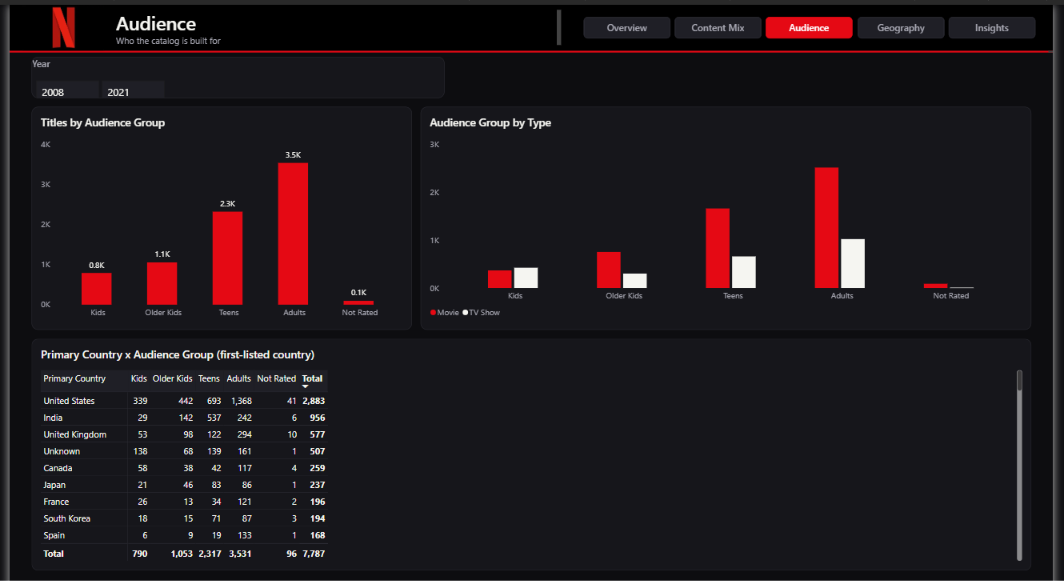

This screenshot's page, from the dashboard's own definition file:
{"tool":"powerbi","page":{"name":"Audience","canvas":[1920,1080],"ordinal":2},"visuals":[{"type":"textbox","box":[0,0,1920,84],"z":100},{"type":"textbox","box":[0,84,1920,3],"z":110},{"type":"image","box":[24,0,150,84],"z":120},{"type":"textbox","box":[196,10,820,66],"z":130},{"type":"actionButton","box":[1056,22,160,40],"z":140},{"type":"actionButton","box":[1224,22,160,40],"z":141},{"type":"actionButton","box":[1392,22,160,40],"z":142},{"type":"actionButton","box":[1560,22,160,40],"z":143},{"type":"actionButton","box":[1728,22,160,40],"z":144},{"type":"slicer","title":"Year","fields":{"Values":["dim_Date.Year"]},"box":[40,96,760,76],"z":1000},{"type":"columnChart","title":"Titles by Audience Group","fields":{"Category":["dim_Rating.Audience Group"],"Y":["_Measures.Total Titles"]},"box":[40,188,700,410],"z":1010},{"type":"clusteredColumnChart","title":"Audience Group by Type","fields":{"Category":["dim_Rating.Audience Group"],"Series":["netflix_titles.type"],"Y":["_Measures.Total Titles"]},"box":[756,188,1124,410],"z":1020},{"type":"pivotTable","title":"Primary Country x Audience Group (first-listed country)","fields":{"Columns":["dim_Rating.Audience Group"],"Rows":["netflix_titles.Primary Country"],"Values":["_Measures.Total Titles"]},"box":[40,614,1840,426],"z":1030}]}

Visuals, with their boxes on the page's 1920x1080 design canvas (x1, y1, x2, y2). These are canvas units, not pixel positions in the 1064x581 screenshot, which may show the page scaled, cropped or inside an application window:
textbox: [x1=0, y1=0, x2=1920, y2=84]
textbox: [x1=0, y1=84, x2=1920, y2=87]
image: [x1=24, y1=0, x2=174, y2=84]
textbox: [x1=196, y1=10, x2=1016, y2=76]
actionButton: [x1=1056, y1=22, x2=1216, y2=62]
actionButton: [x1=1224, y1=22, x2=1384, y2=62]
actionButton: [x1=1392, y1=22, x2=1552, y2=62]
actionButton: [x1=1560, y1=22, x2=1720, y2=62]
actionButton: [x1=1728, y1=22, x2=1888, y2=62]
"Year" slicer: [x1=40, y1=96, x2=800, y2=172]
"Titles by Audience Group" columnChart: [x1=40, y1=188, x2=740, y2=598]
"Audience Group by Type" clusteredColumnChart: [x1=756, y1=188, x2=1880, y2=598]
"Primary Country x Audience Group (first-listed country)" pivotTable: [x1=40, y1=614, x2=1880, y2=1040]
